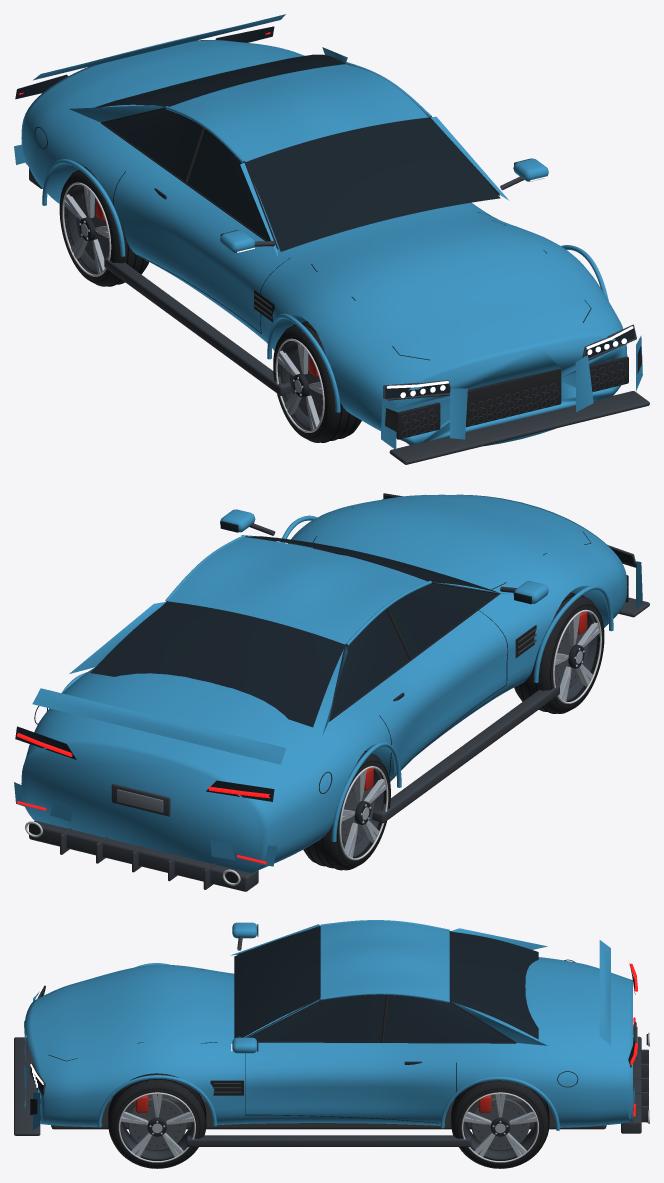
The model's file is supra.glb.
3 renders of one model, top to bottom at view 1: azimuth 30°, elevation 25°; view 2: azimuth 150°, elevation 25°; view 3: azimuth 270°, elevation 25°, orthographic. The views are drawn at different scales.
Visible parts, largest first — view 1: Web_Chassis_Rig_supra_Exterior_NewPaint, Web_Chassis_Rig_Detail_Glass_Tinted, Web_Chassis_Rig_Graphite metal, Web_Chassis_Rig_Rubber, Web_Wheel_FR_Rubber, Web_Wheel_RR_Rubber, Web_Wheel_FR_V6 Forged alloy, Web_Wheel_RR_V6 Forged alloy, Web_Chassis_Rig_White LED, Brake rotor.001, Web_Wheel_RR_Graphite metal, Brake rotor (+1 smaller); view 2: Web_Chassis_Rig_supra_Exterior_NewPaint, Web_Chassis_Rig_Detail_Glass_Tinted, Web_Chassis_Rig_Graphite metal, Web_Wheel_FR_Rubber, Web_Wheel_RR_Rubber, Web_Chassis_Rig_Rubber, Web_Wheel_RR_V6 Forged alloy, Web_Wheel_FR_V6 Forged alloy, Web_Chassis_Rig_Red LED, Brake rotor, Brake rotor.001, Web_Wheel_FR_Graphite metal (+2 smaller); view 3: Web_Chassis_Rig_supra_Exterior_NewPaint, Web_Chassis_Rig_Detail_Glass_Tinted, Web_Chassis_Rig_Graphite metal, Continuous_central_floor_pan, Web_Wheel_FL_Rubber, Web_Wheel_RL_Rubber, Web_Chassis_Rig_Rubber, Brake rotor.003, Brake rotor.002, Web_Wheel_FL_V6 Forged alloy, Web_Wheel_RL_V6 Forged alloy, Web_Wheel_FL_Graphite metal (+5 smaller).
Boxes of the visible parts, x1,y1,x2,y2 form: Web_Chassis_Rig_supra_Exterior_NewPaint: (14, 14, 642, 449); Web_Chassis_Rig_Detail_Glass_Tinted: (15, 26, 634, 398); Web_Chassis_Rig_Graphite metal: (29, 168, 649, 464); Web_Chassis_Rig_Rubber: (34, 63, 642, 439); Web_Wheel_FR_Rubber: (273, 322, 361, 442); Web_Wheel_RR_Rubber: (59, 168, 149, 286); Web_Wheel_FR_V6 Forged alloy: (277, 342, 322, 430); Web_Wheel_RR_V6 Forged alloy: (64, 186, 108, 274); Web_Chassis_Rig_White LED: (237, 176, 633, 397); Brake rotor.001: (289, 349, 322, 417); Web_Wheel_RR_Graphite metal: (66, 184, 97, 274); Brake rotor: (76, 193, 109, 260); Web_Chassis_Rig_supra_Exterior_NewPaint: (14, 494, 642, 873); Web_Chassis_Rig_Detail_Glass_Tinted: (15, 496, 633, 801); Web_Chassis_Rig_Graphite metal: (29, 493, 649, 891); Web_Wheel_FR_Rubber: (514, 593, 604, 713); Web_Wheel_RR_Rubber: (303, 751, 390, 870); Web_Chassis_Rig_Rubber: (28, 494, 628, 882); Web_Wheel_RR_V6 Forged alloy: (341, 770, 386, 857); Web_Wheel_FR_V6 Forged alloy: (555, 614, 599, 701); Web_Chassis_Rig_Red LED: (16, 733, 269, 864); Brake rotor: (341, 781, 374, 845); Brake rotor.001: (554, 625, 588, 688); Web_Wheel_FR_Graphite metal: (566, 612, 597, 701); Web_Chassis_Rig_supra_Exterior_NewPaint: (24, 920, 634, 1130); Web_Chassis_Rig_Detail_Glass_Tinted: (31, 924, 635, 1091); Web_Chassis_Rig_Graphite metal: (14, 936, 648, 1146); Continuous_central_floor_pan: (51, 1094, 606, 1129); Web_Wheel_FL_Rubber: (109, 1073, 205, 1168); Web_Wheel_RL_Rubber: (452, 1080, 548, 1168); Web_Chassis_Rig_Rubber: (30, 926, 647, 1122); Brake rotor.003: (128, 1098, 186, 1150); Brake rotor.002: (471, 1098, 529, 1150); Web_Wheel_FL_V6 Forged alloy: (121, 1094, 193, 1156); Web_Wheel_RL_V6 Forged alloy: (464, 1094, 536, 1156); Web_Wheel_FL_Graphite metal: (120, 1099, 194, 1160).
Size of the model in its own units: 2.12 by 1.32 by 4.58.
